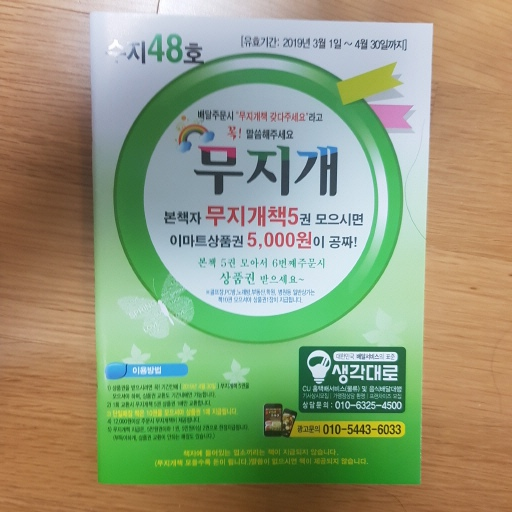Paper_0: (77, 4, 444, 500)
